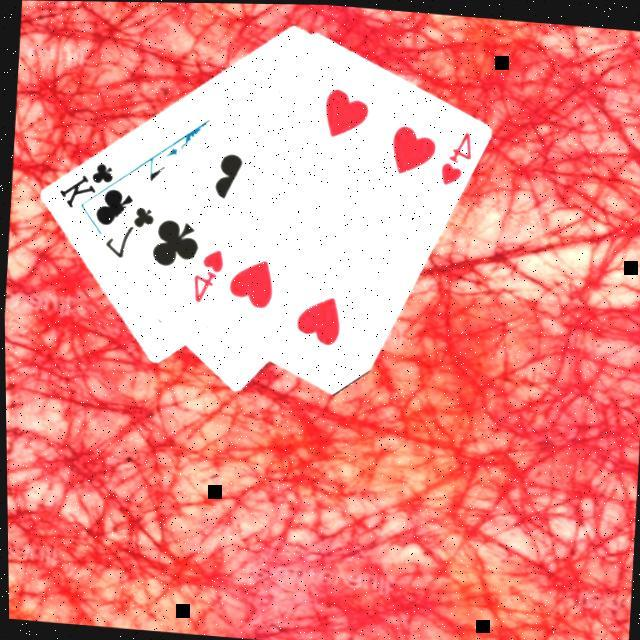4H: (433, 127, 474, 191), (185, 245, 226, 308)
7C: (97, 201, 156, 266)
KC: (51, 157, 127, 217)
